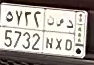2: (32, 10, 42, 50)
3: (22, 11, 32, 50)
5: (4, 11, 14, 47)
7: (13, 10, 23, 48)
D: (65, 19, 74, 51)
N: (45, 15, 55, 49)
X: (55, 17, 65, 50)
